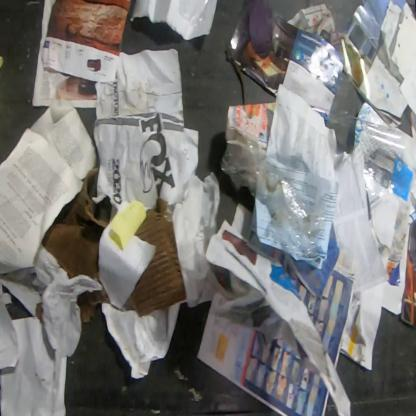cardboard: (41, 165, 110, 285), (121, 195, 187, 318), (76, 287, 110, 324), (357, 101, 387, 124), (35, 301, 43, 324)
rigid_plastic: (220, 131, 328, 259)
soft_plastic: (325, 107, 415, 214)
